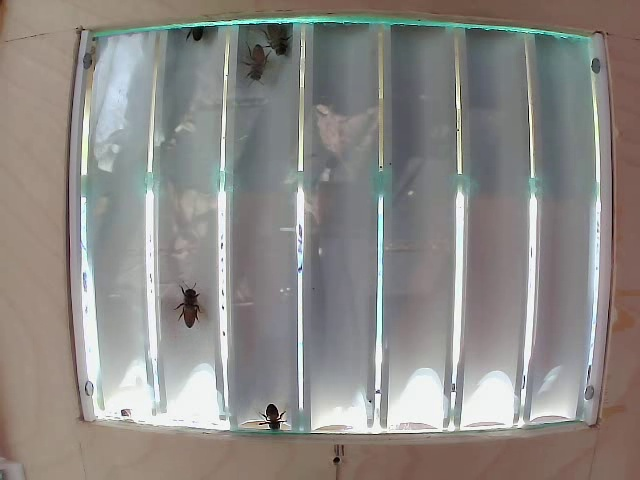bee: (169, 285, 220, 335), (238, 36, 281, 91), (260, 23, 294, 75)
